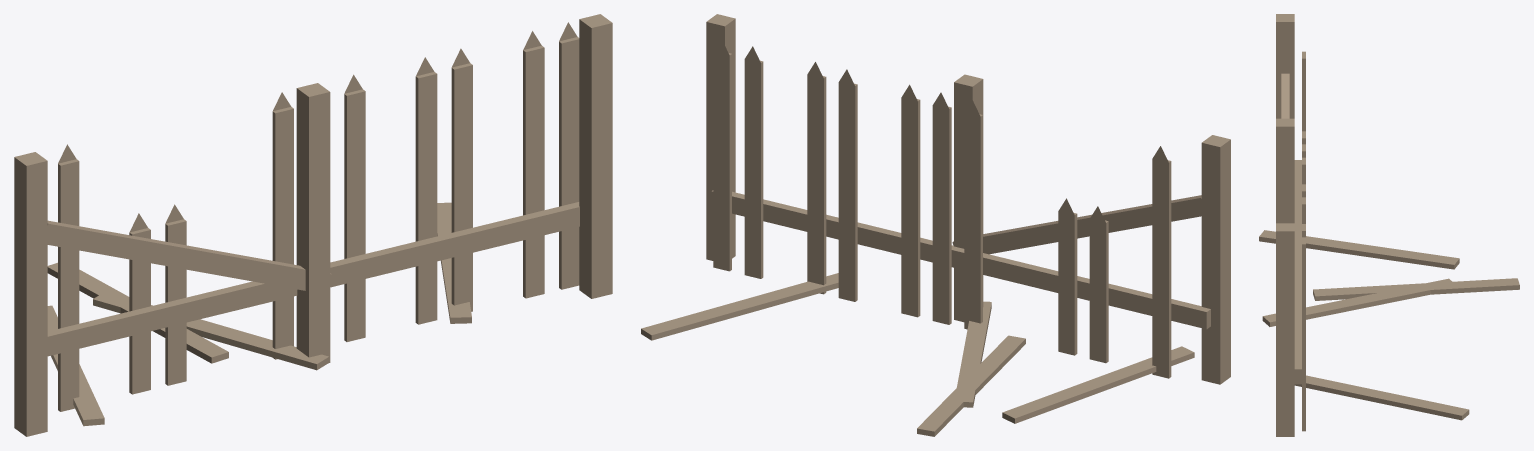
The model's file is fence_broken.glb.
3 views of the same model, side by side, from view 1: azimuth 30°, elevation 25°; view 2: azimuth 150°, elevation 25°; view 3: azimuth 270°, elevation 25° (orthographic). The views are drawn at different scales.
Visible parts, largest first — view 1: Fence; view 2: Fence; view 3: Fence.
Part boxes in pixels (<box>): Fence: <box>14,14,612,436</box>; Fence: <box>641,14,1230,436</box>; Fence: <box>1259,14,1519,436</box>.
Bounding box in the file's own units: 2.49 × 1.1 × 1.26.
